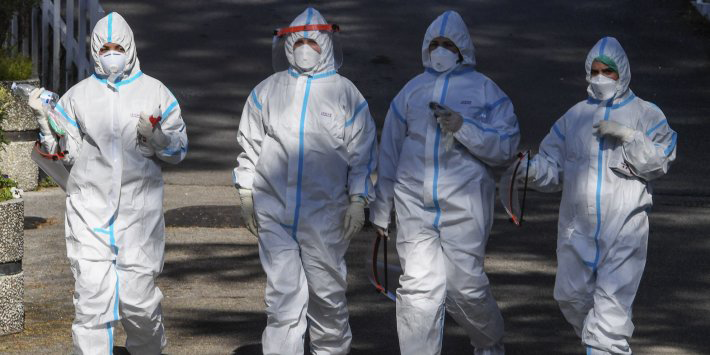Coverall: (33, 12, 187, 355), (373, 10, 522, 355), (234, 10, 373, 355), (529, 32, 677, 355)
Gloves: (430, 101, 464, 140), (590, 115, 632, 146), (137, 114, 169, 151), (343, 191, 368, 238), (237, 189, 261, 232)
with_mask: (424, 41, 459, 78), (589, 67, 619, 104), (292, 41, 324, 75), (100, 48, 130, 82)
